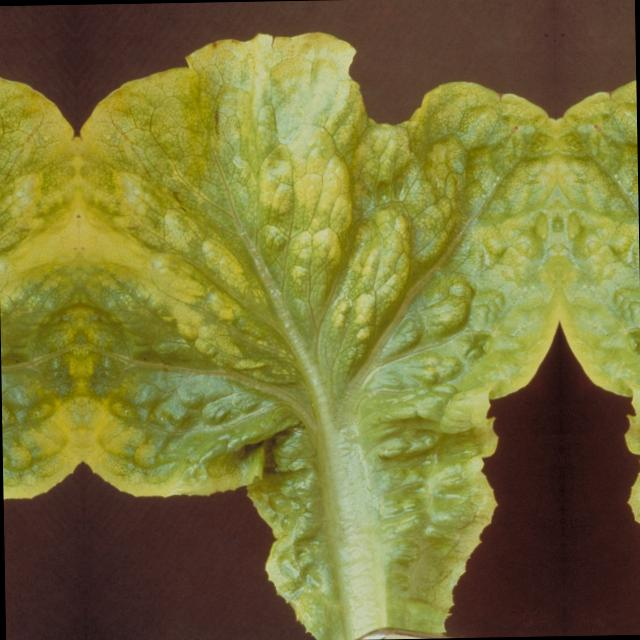lettuce mosaic virus: (76, 28, 564, 626), (0, 36, 86, 627), (556, 26, 640, 617)
